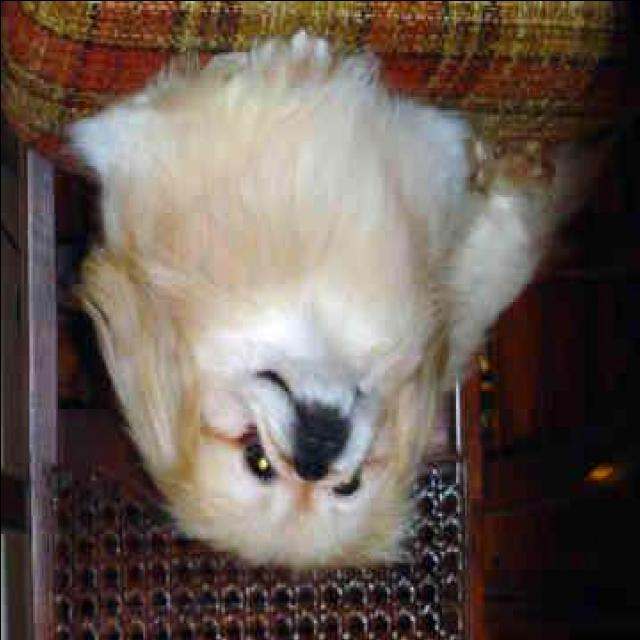pekinese: (66, 22, 588, 570)
